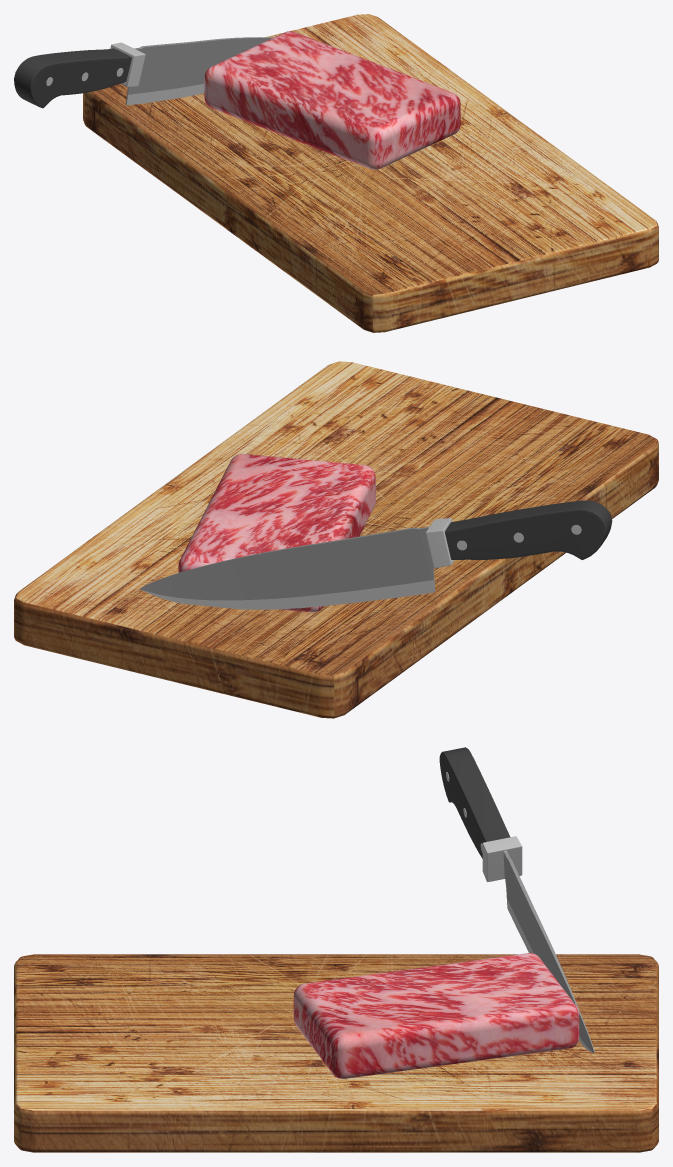
File: kitchen scene.fbx
The picture shows the model from 3 angles, top to bottom: view 1: azimuth 30°, elevation 25°; view 2: azimuth 150°, elevation 25°; view 3: azimuth 270°, elevation 25°; orthographic projection. The views are drawn at different scales.
Visible parts, largest first — view 1: pCube4, pCube5, pCylinder7; view 2: pCube4, pCylinder7, pCube5; view 3: pCube4, pCube5, pCylinder7.
Boxes of the visible parts, bbox=[...] form: pCube4: bbox=[83, 14, 658, 332]; pCube5: bbox=[204, 31, 460, 169]; pCylinder7: bbox=[14, 37, 273, 108]; pCube4: bbox=[14, 361, 658, 718]; pCylinder7: bbox=[140, 500, 612, 609]; pCube5: bbox=[178, 454, 375, 612]; pCube4: bbox=[14, 954, 658, 1152]; pCube5: bbox=[293, 953, 579, 1078]; pCylinder7: bbox=[439, 747, 594, 1052].
Bounding box in the file's own units: 13.67 × 4.69 × 15.62.
Materials: 6 (2 with a texture image).
